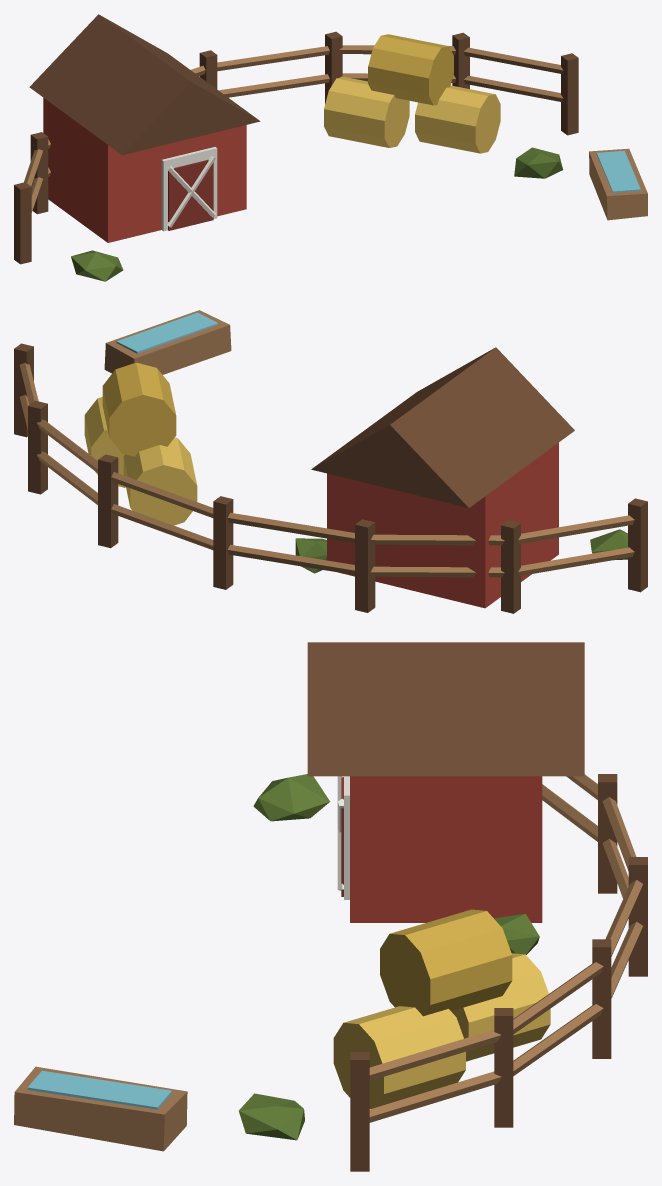
Rendered from theme_ranch.glb.
3 views of the same model, one above another, from view 1: azimuth 30°, elevation 25°; view 2: azimuth 150°, elevation 25°; view 3: azimuth 270°, elevation 25° (orthographic). The views are drawn at different scales.
Parts seen in each view (by area): view 1: theme_ranch; view 2: theme_ranch; view 3: theme_ranch.
Boxes of the visible parts, box(x1,y1,x2,y2) form: theme_ranch: box(14, 14, 647, 281); theme_ranch: box(14, 310, 647, 613); theme_ranch: box(14, 642, 647, 1171).
Size of the model in its own units: 2.48 by 0.7194 by 1.65.
